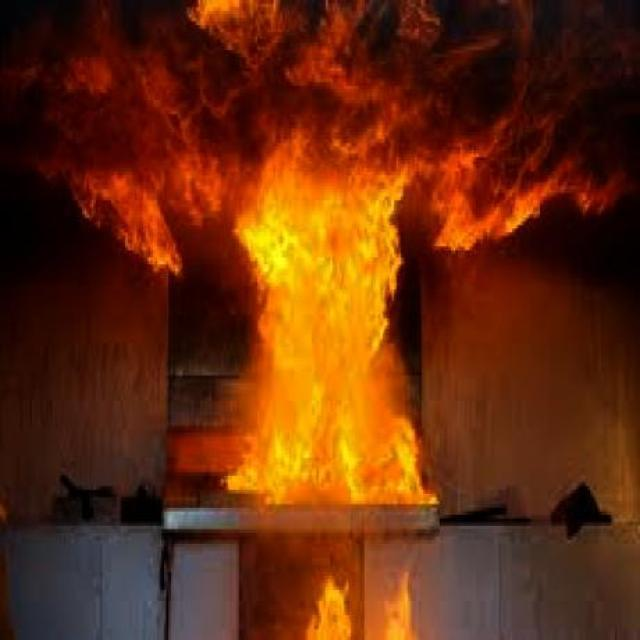Fire: (61, 5, 624, 512), (295, 576, 449, 640)
